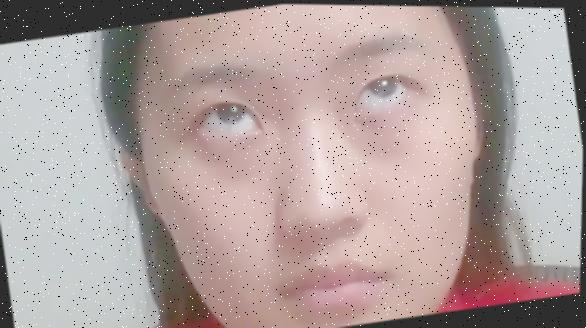eye: (214, 91, 249, 125), (365, 65, 400, 99)
iris: (197, 96, 262, 141), (352, 70, 412, 114)
